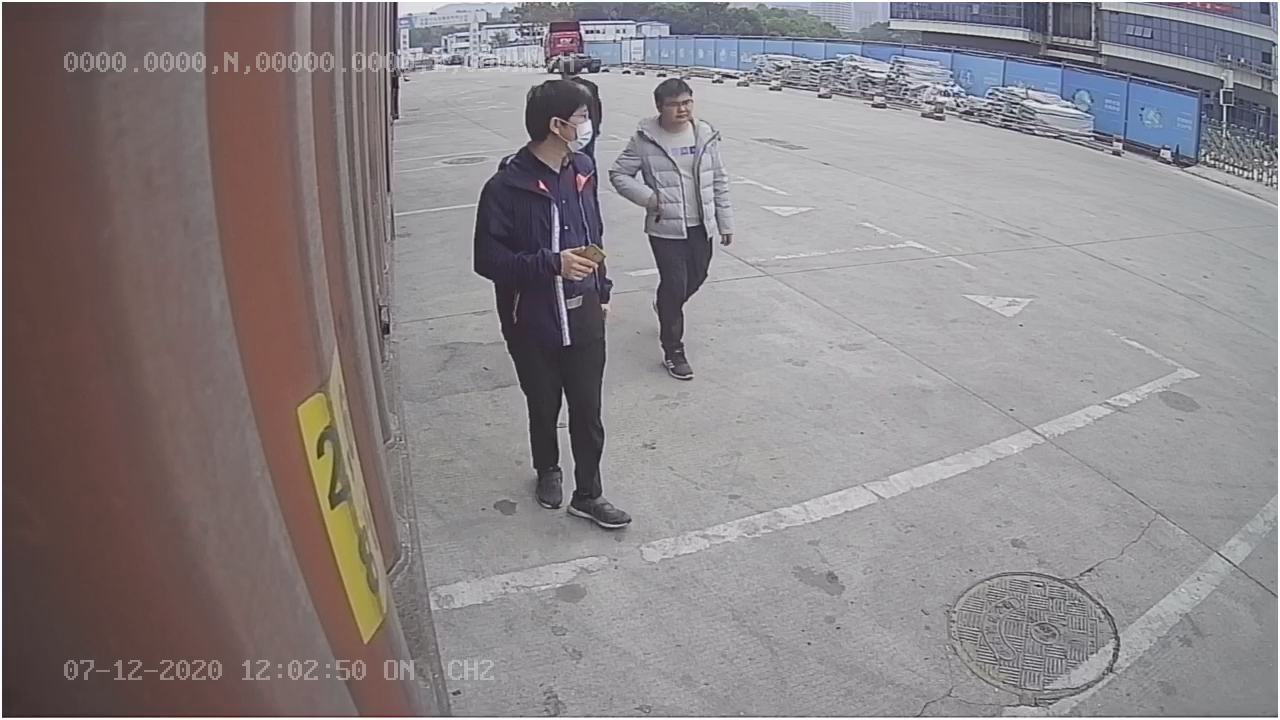person: (613, 67, 735, 380)
